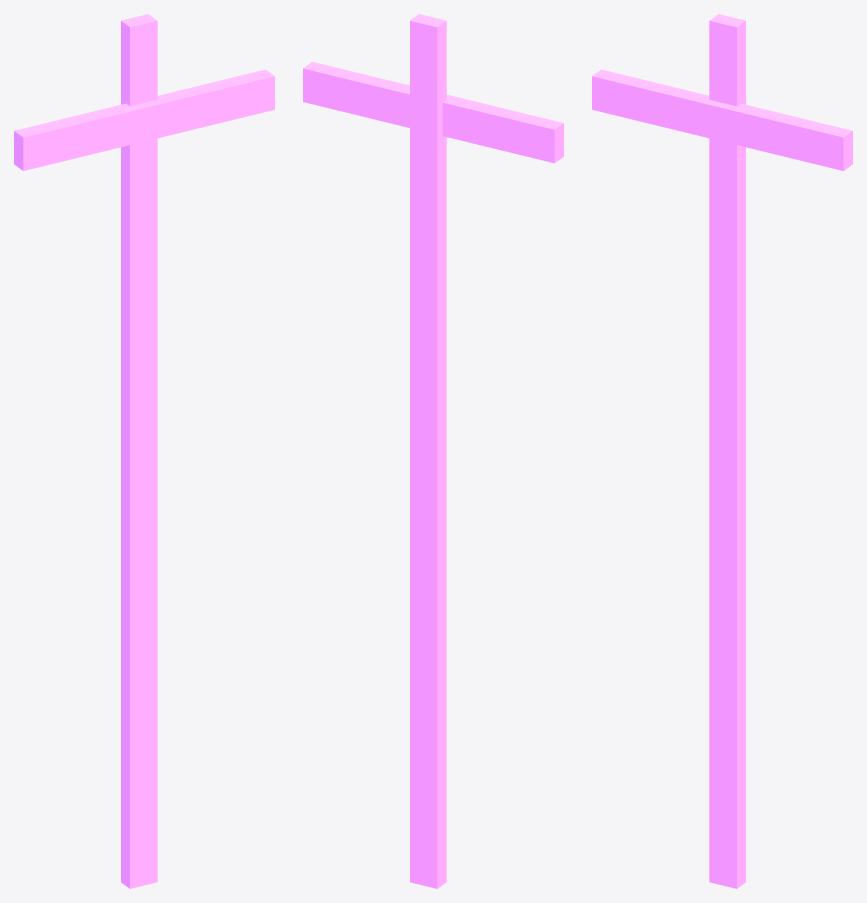
File: Ruin_ObserverMonolith_Inlay.glb
3 renders of one model, left to right at view 1: azimuth 30°, elevation 25°; view 2: azimuth 150°, elevation 25°; view 3: azimuth 330°, elevation 25°, orthographic.
Parts seen in each view (by area): view 1: Ruin_ObserverMonolith_Inlay; view 2: Ruin_ObserverMonolith_Inlay; view 3: Ruin_ObserverMonolith_Inlay.
Part boxes in pixels (x1,y1,x2,y2): Ruin_ObserverMonolith_Inlay: (14, 14, 274, 888); Ruin_ObserverMonolith_Inlay: (303, 14, 563, 888); Ruin_ObserverMonolith_Inlay: (592, 14, 852, 888).
Size of the model in its own units: 0.55 by 1.8 by 0.055.
